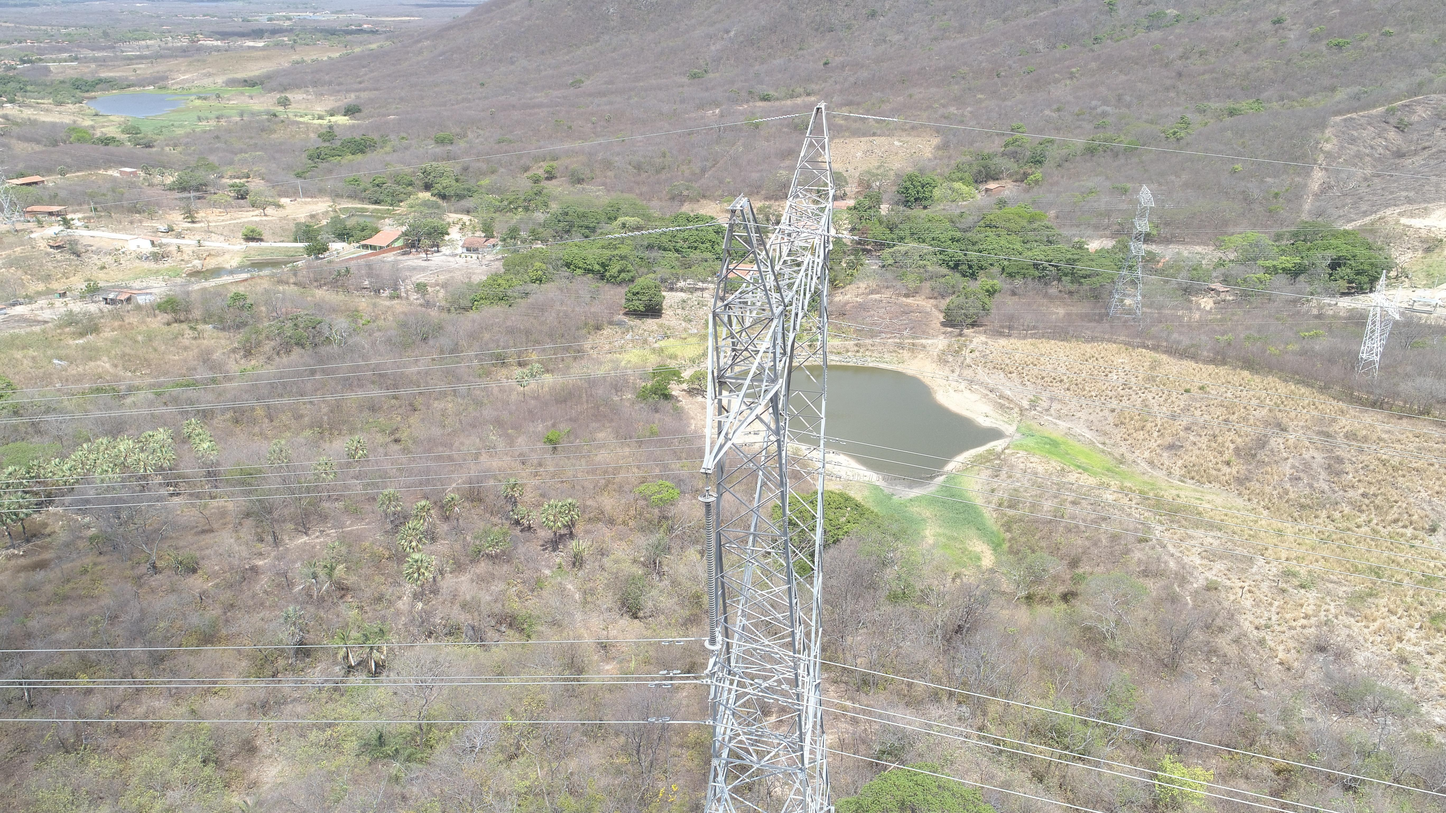power_tower: (696, 99, 843, 813), (1101, 185, 1163, 317), (1353, 268, 1406, 377), (1, 157, 33, 230)
